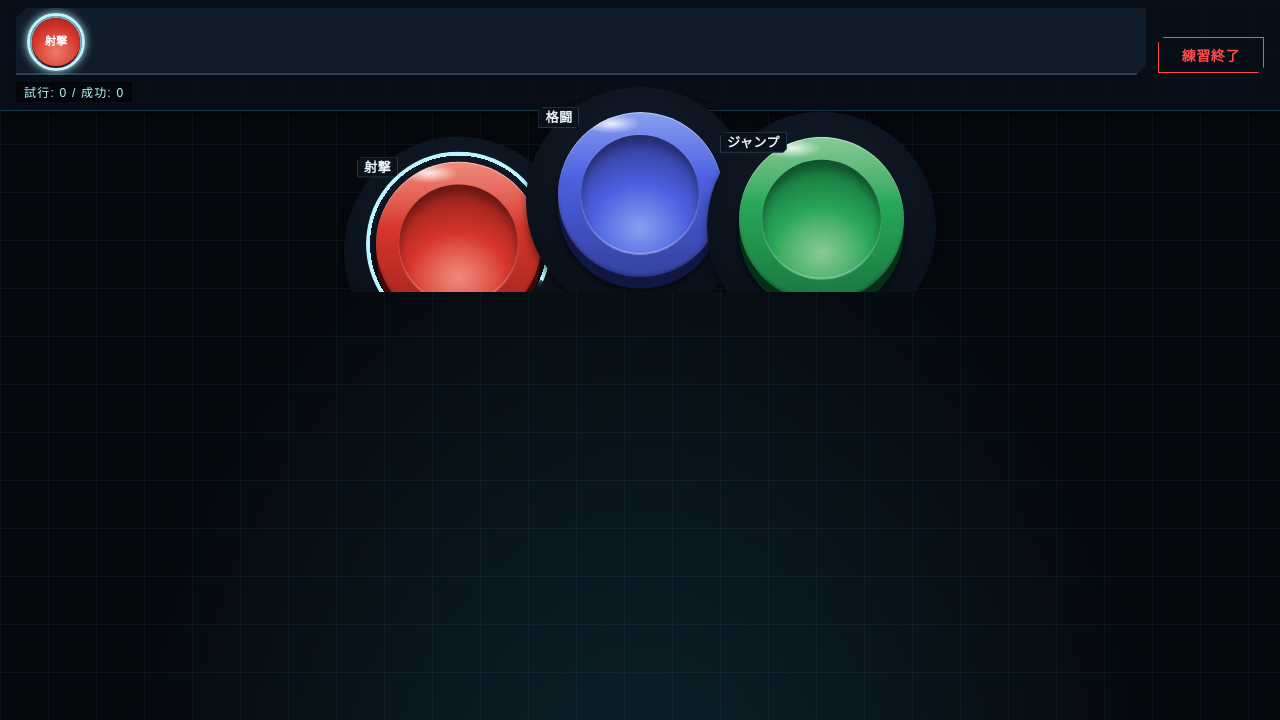
Scenario: 練習セッション結果フロー 統合テスト › 成功後の SessionResult DOM 確認 › 成功後に練習終了すると SessionResult が DOM に存在する
Press the mouse on the button "射撃" at (458, 244), box [376, 162, 541, 327]
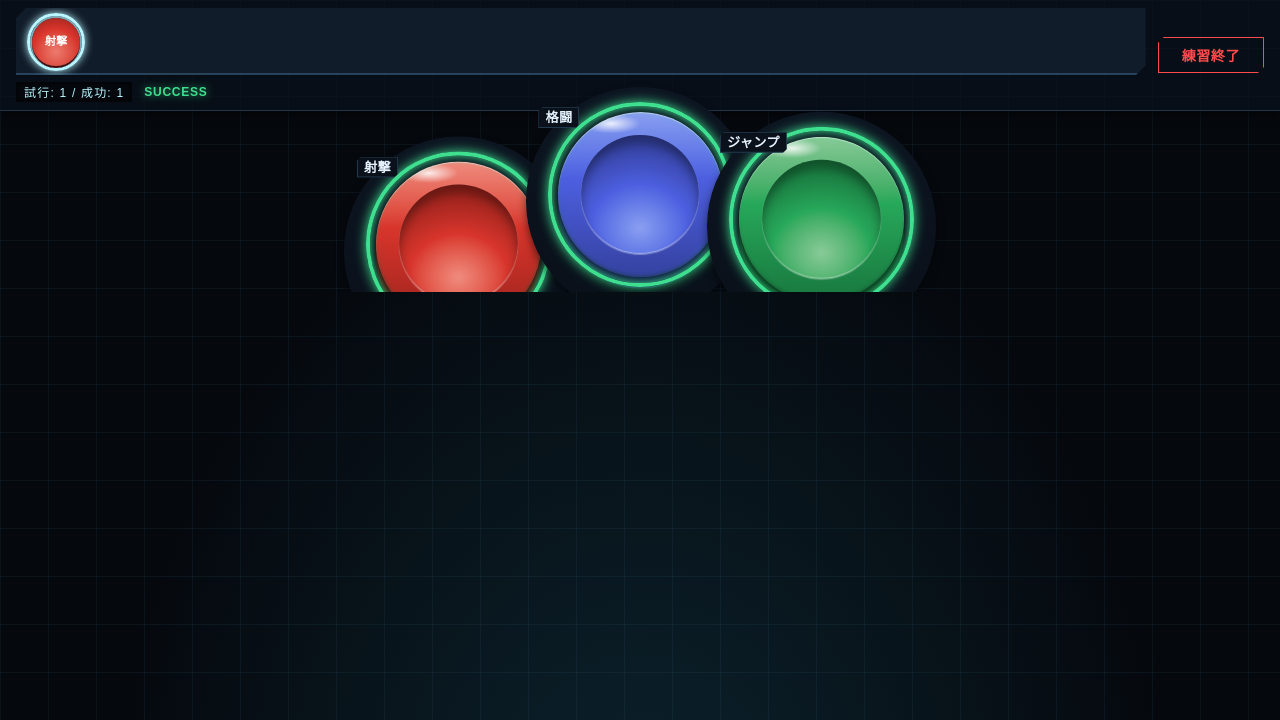
Click the button "練習終了". click: click(1211, 55)
box: [1158, 37, 1264, 73]
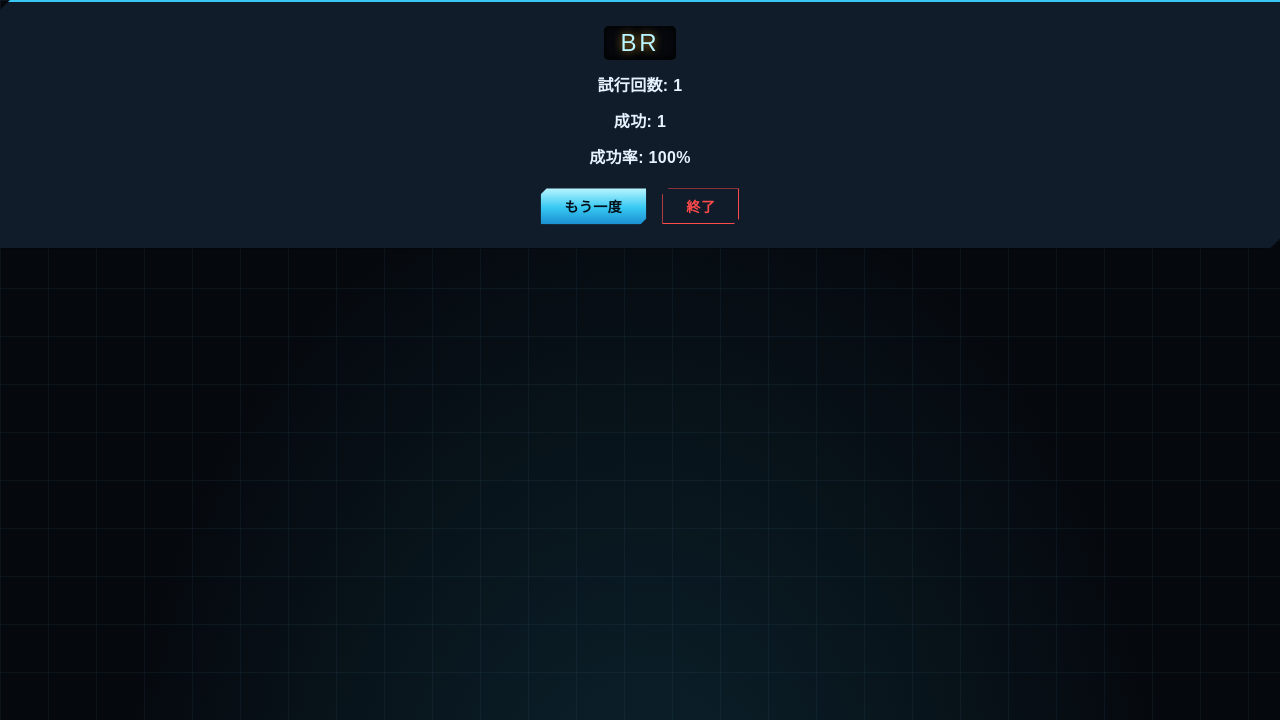
Expected: the element with test id "session-result" is shown, [0, 0, 1279, 248]
